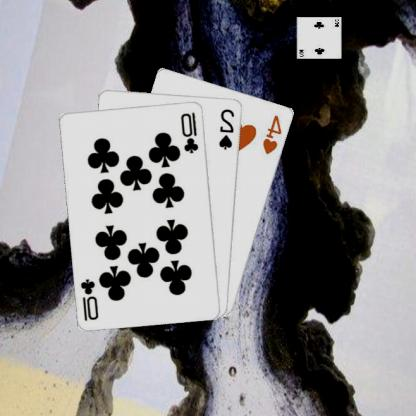10C: (80, 275, 102, 322), (180, 109, 202, 154)
2S: (218, 106, 238, 151)
4H: (262, 112, 286, 155)
